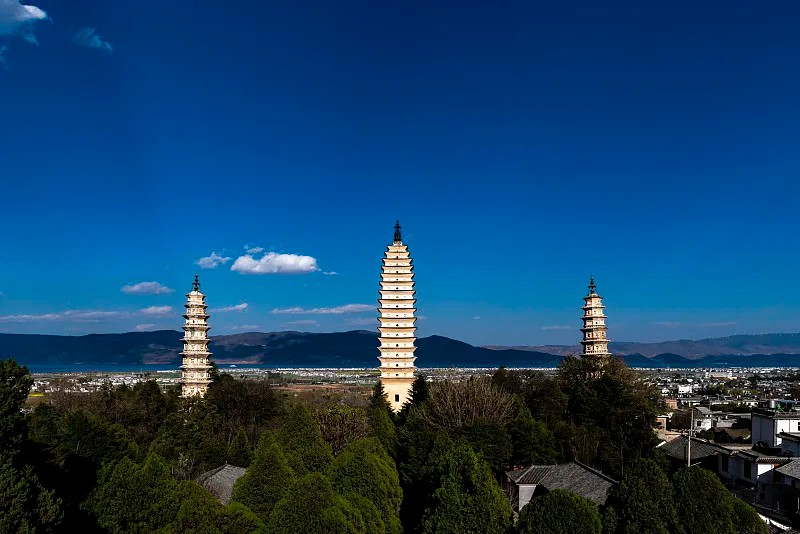ThreePagoda: (377, 219, 418, 408)
